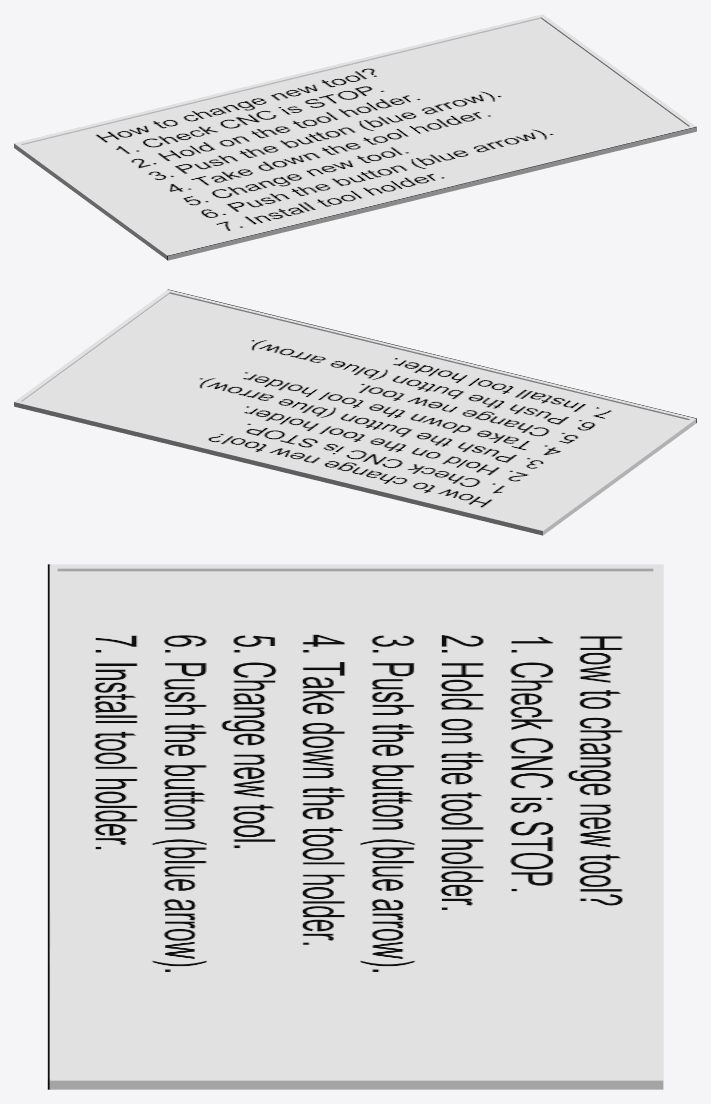
The model's file is Whiteboard_Word.obj.
3 views of the same model, one above another, from view 1: azimuth 30°, elevation 25°; view 2: azimuth 150°, elevation 25°; view 3: azimuth 270°, elevation 25° (orthographic). The views are drawn at different scales.
Visible parts, largest first — view 1: ??_??2; view 2: ??_??2; view 3: ??_??2.
Boxes of the visible parts, <box> form: ??_??2: <box>14,14,696,260</box>; ??_??2: <box>14,289,696,535</box>; ??_??2: <box>47,564,663,1089</box>.
Bounding box in the file's own units: 12.1 × 0.1 × 6.1.
Materials: 1 (1 with a texture image).
